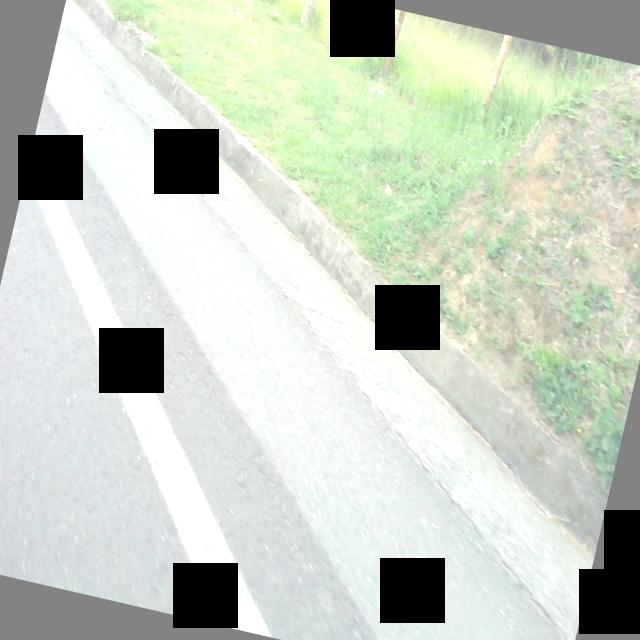DITCH: (0, 0, 640, 640), (0, 50, 640, 640), (0, 72, 640, 640)
